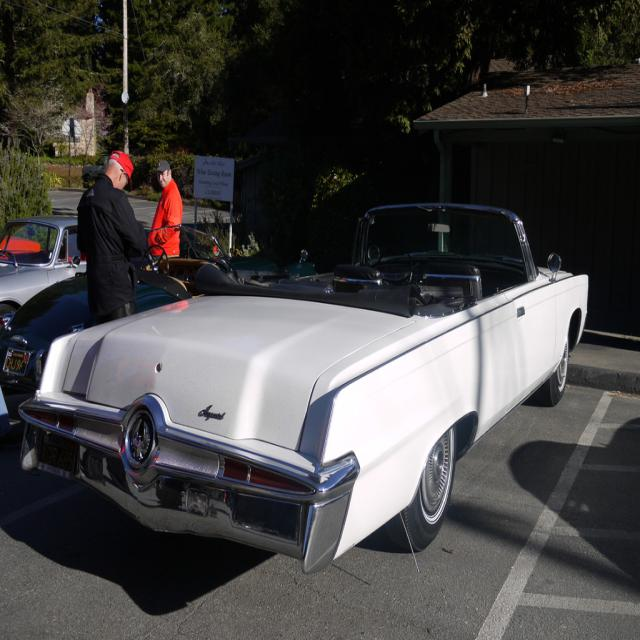car: (10, 203, 566, 574)
